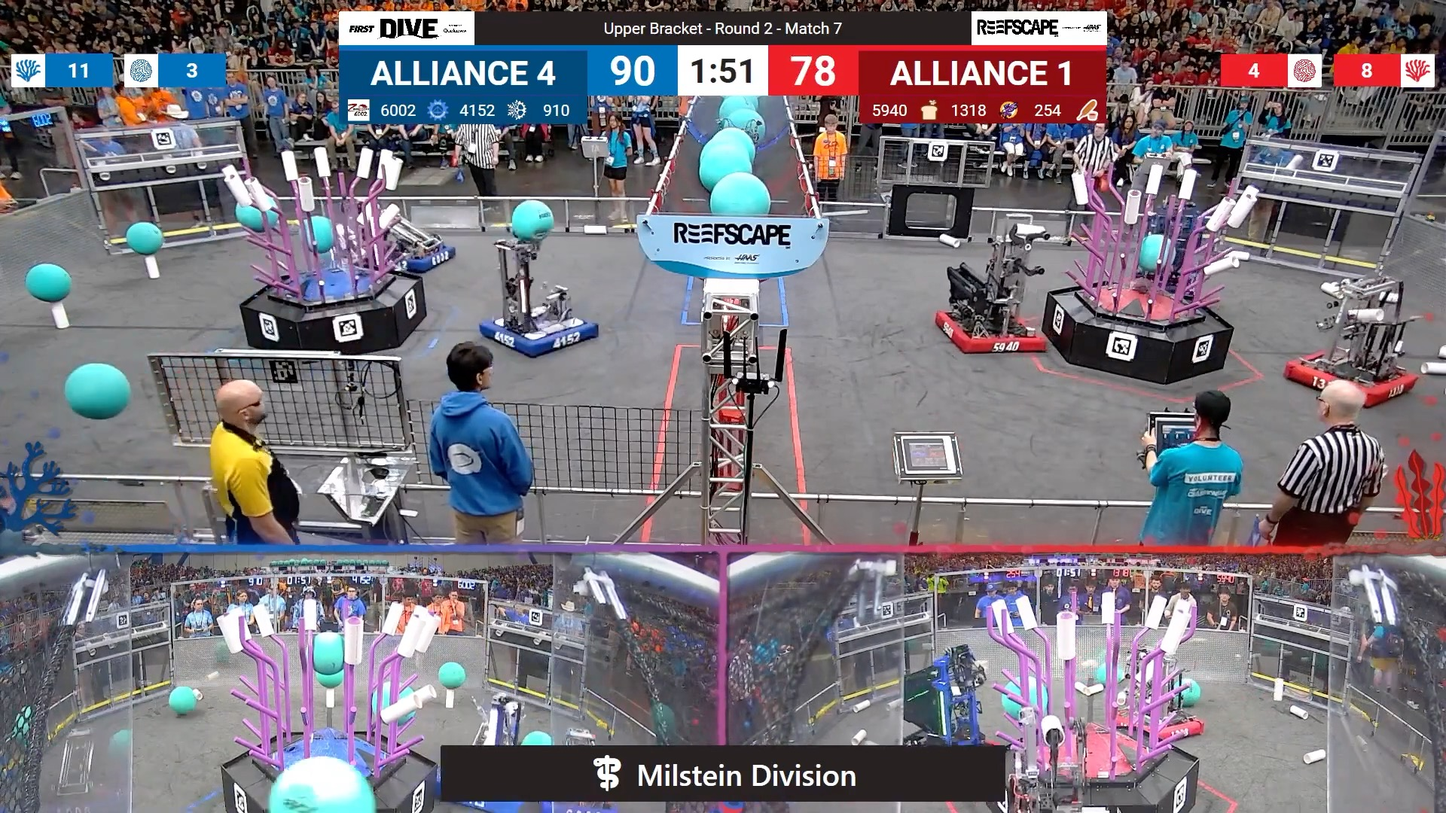bumpers: (1275, 343, 1424, 410), (926, 306, 1052, 362), (477, 314, 606, 363), (1113, 706, 1211, 744), (369, 239, 460, 277)
